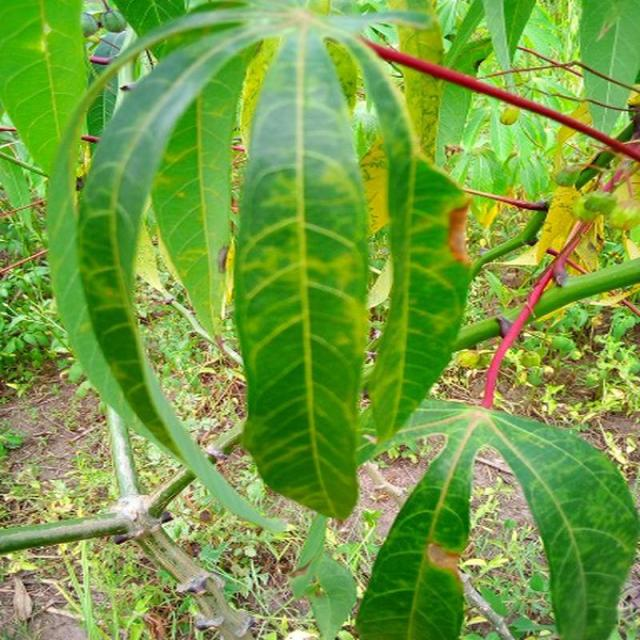cassava leaf: (66, 1, 467, 529), (232, 20, 370, 521), (354, 399, 638, 638)
